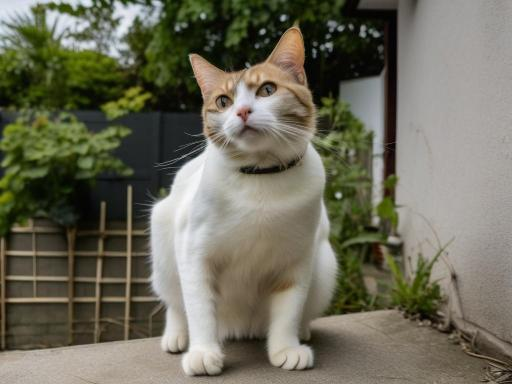cat_sitting: (151, 27, 338, 375)
